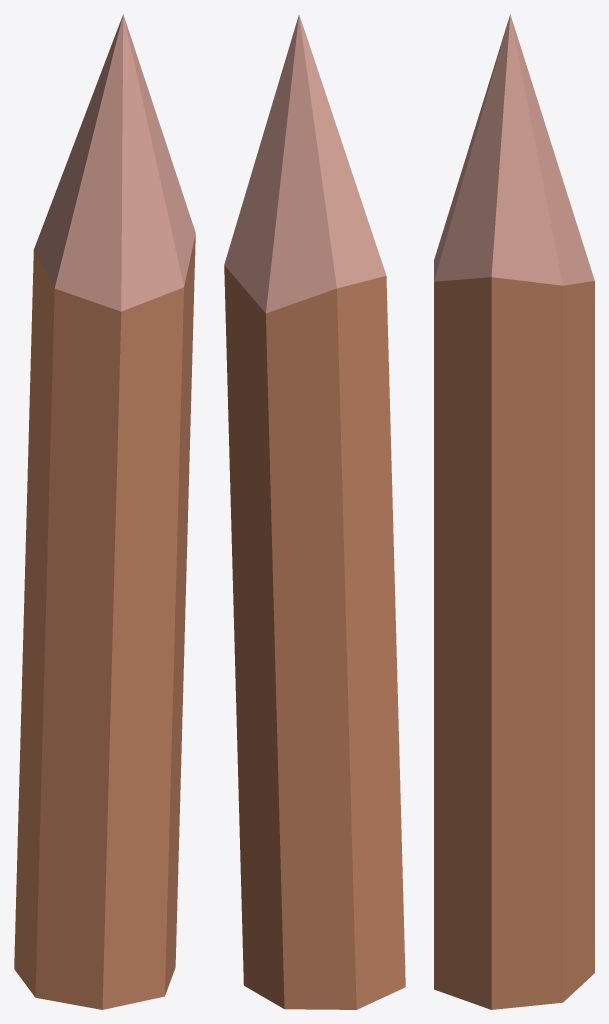
Rendered from LogB.fbx.
3 renders of one model, left to right at view 1: azimuth 30°, elevation 25°; view 2: azimuth 150°, elevation 25°; view 3: azimuth 270°, elevation 25°, orthographic.
Visible parts, largest first — view 1: LogB; view 2: LogB; view 3: LogB.
Boxes of the visible parts, left/top/right/bottom form: LogB: left=14, top=14, right=195, bottom=1009; LogB: left=224, top=14, right=405, bottom=1009; LogB: left=434, top=14, right=594, bottom=1009.
Size of the model in its own units: 69.59 by 397 by 59.33.
